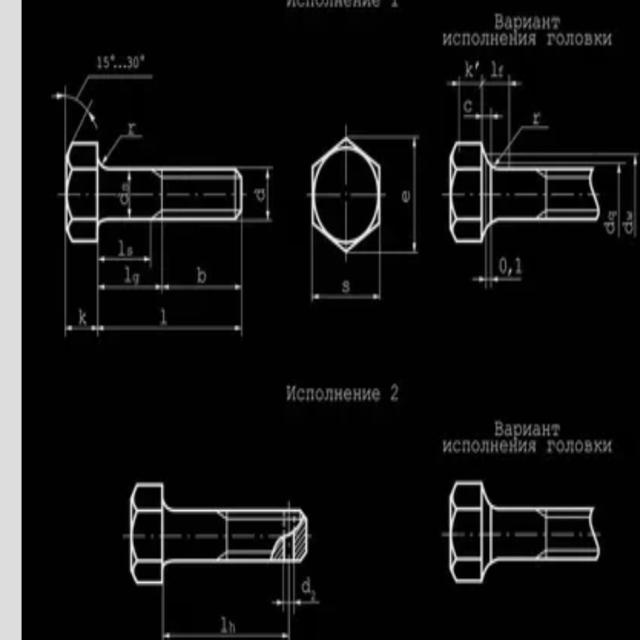marking_line: (64, 245, 243, 337), (95, 248, 246, 338), (96, 244, 244, 293), (161, 587, 291, 639), (160, 224, 244, 296), (382, 133, 420, 256), (490, 140, 637, 164), (309, 254, 381, 302), (602, 153, 640, 240), (95, 246, 164, 293), (64, 245, 98, 335), (447, 73, 486, 139), (273, 565, 323, 616), (471, 243, 524, 289), (488, 78, 520, 150), (51, 92, 98, 141), (100, 224, 154, 265), (489, 229, 522, 290), (78, 71, 152, 98), (602, 161, 628, 237), (242, 165, 274, 222), (292, 566, 322, 614), (96, 247, 154, 270), (103, 134, 138, 164), (462, 108, 486, 140), (470, 243, 487, 287), (487, 107, 501, 155), (272, 565, 286, 610), (126, 172, 132, 217)
